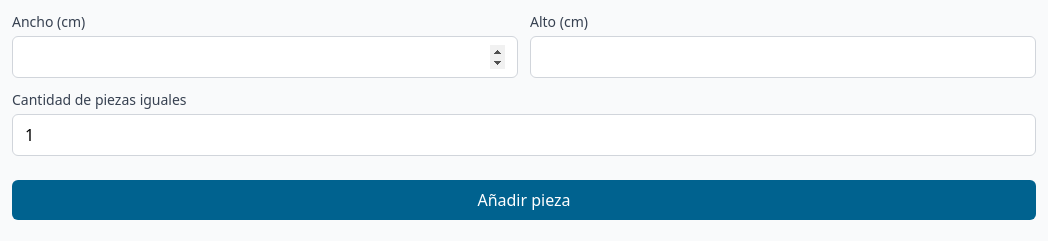
Test: OrderLineForm › M2 › adds a valid piece, clears dimensions and keeps quantity at 1
Type "100" into the number field with test id "width-input" at (265, 57), box [12, 36, 518, 78]
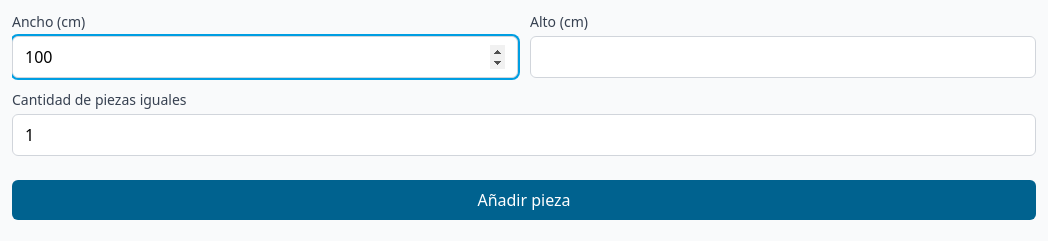
Type "50" into the number field with test id "height-input" at (783, 57), box [530, 36, 1036, 78]
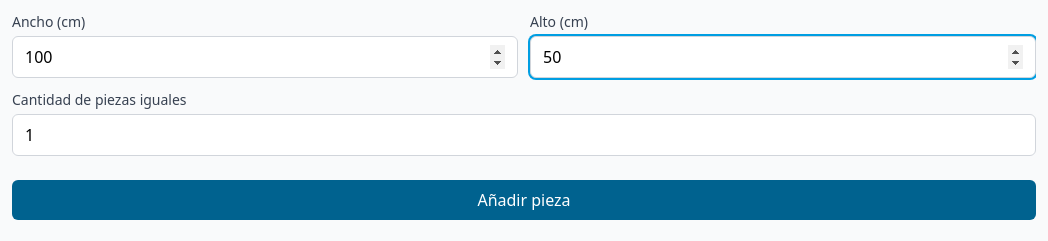
Replace the text in the number field with test id "quantity-input" with "4" at (524, 135), box [12, 114, 1036, 156]
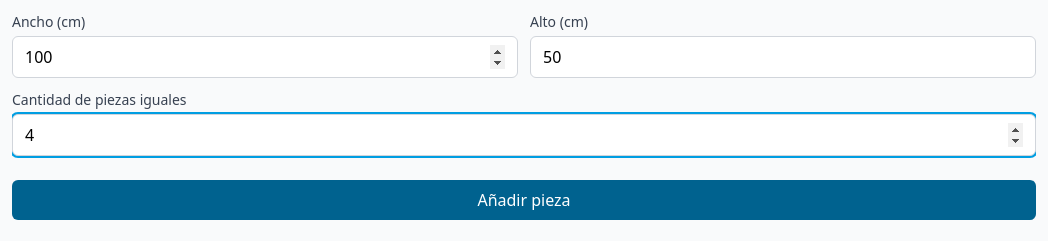
Click the button with test id "add-piece-btn" at (524, 200), box [12, 180, 1036, 220]
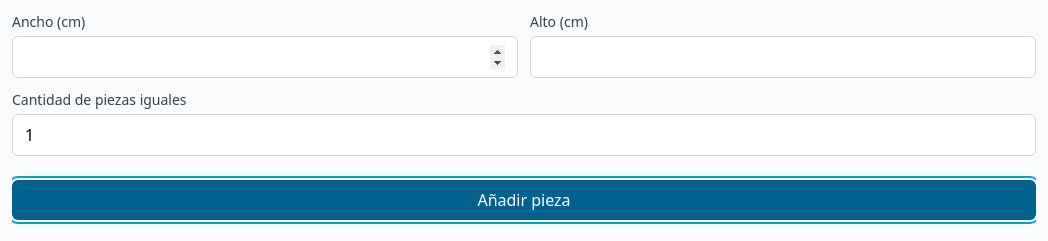
Now the number field with test id "quantity-input" holds "1", box [12, 114, 1036, 156]
